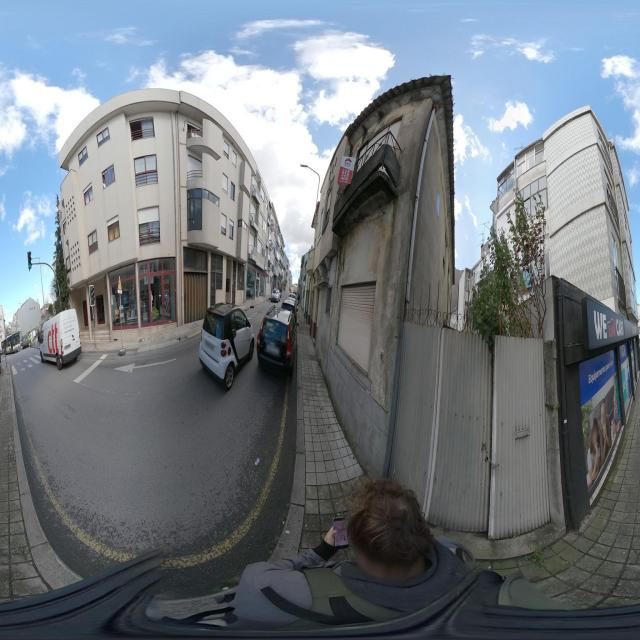car: (199, 302, 255, 392), (257, 311, 298, 378), (42, 309, 82, 368), (270, 288, 282, 304)
